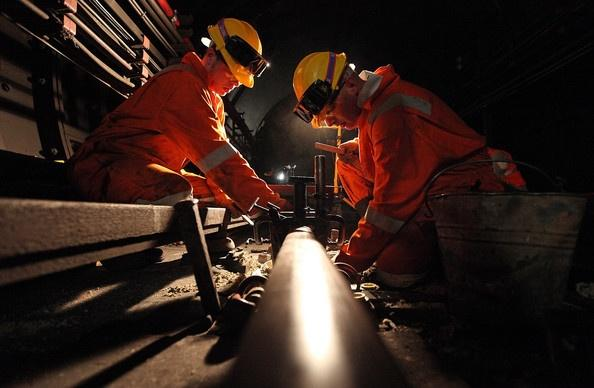Helmet: (293, 49, 358, 127), (201, 19, 264, 93)
